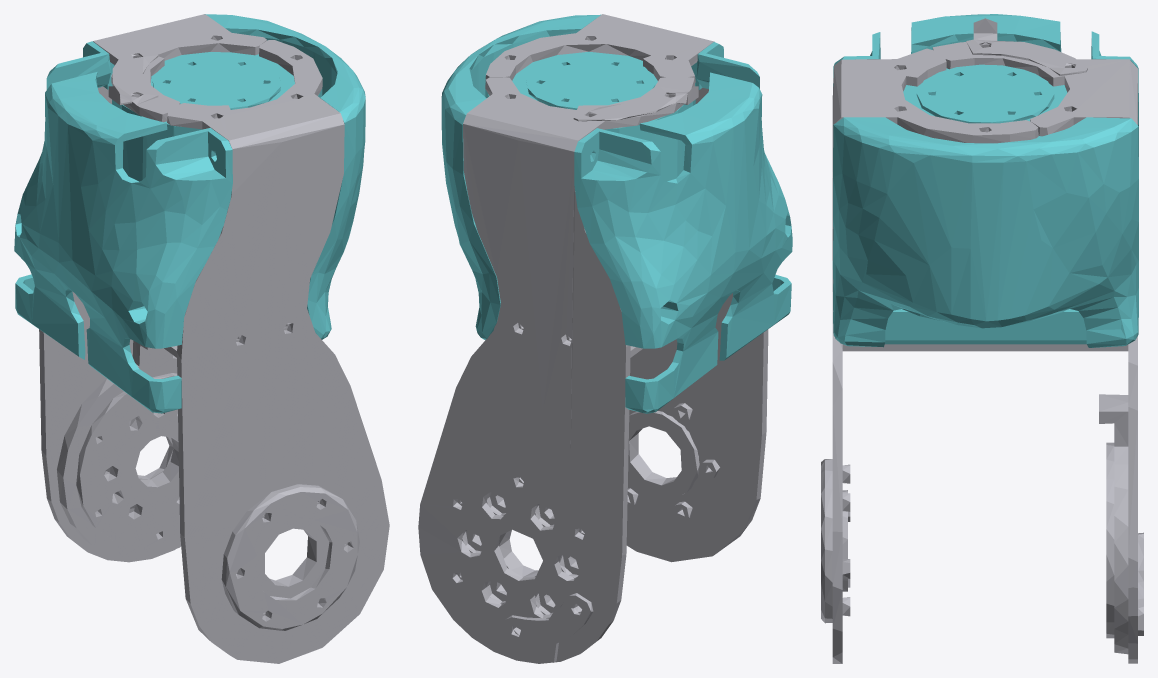
3 renders of one model, left to right at view 1: azimuth 30°, elevation 25°; view 2: azimuth 150°, elevation 25°; view 3: azimuth 270°, elevation 25°, orthographic. The views are drawn at different scales.
Visible parts, largest first — view 1: link4; view 2: link4; view 3: link4.
Part boxes in pixels (<box>): link4: <box>14,14,389,663</box>; link4: <box>418,14,792,663</box>; link4: <box>821,14,1143,663</box>.
Bounding box in the file's own units: 0.0849 × 0.0825 × 0.1638.
